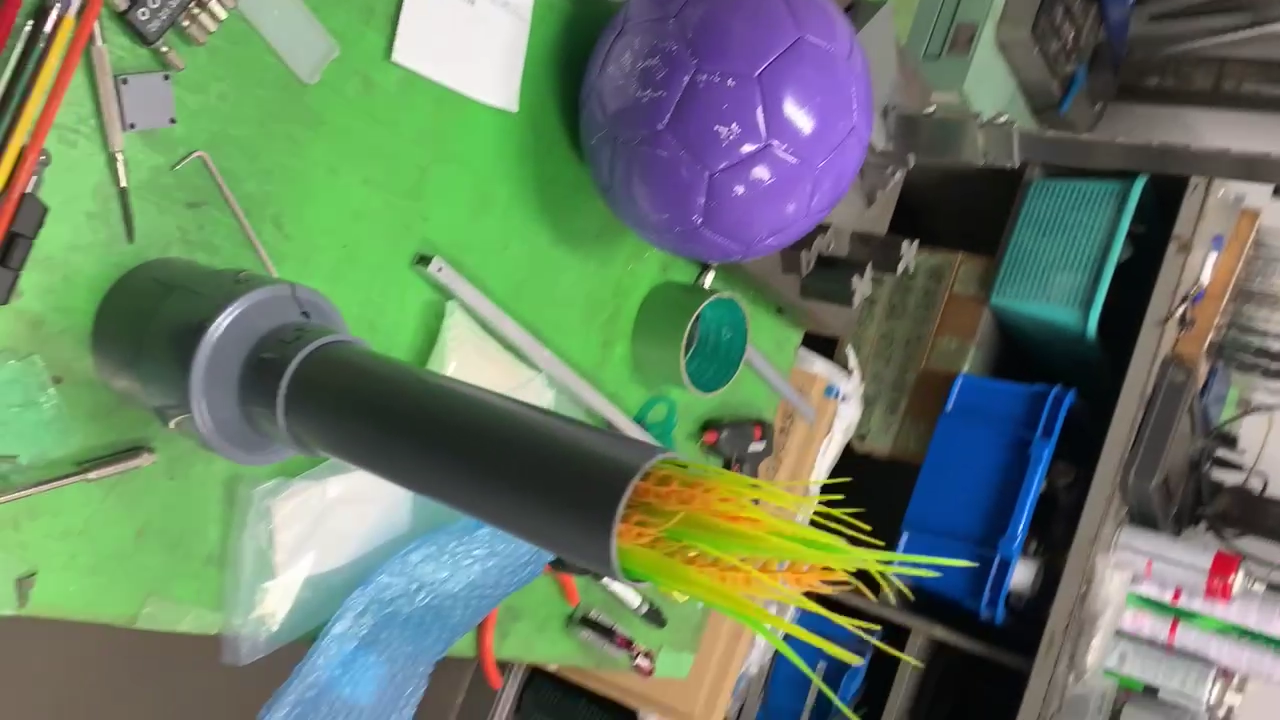purple: (569, 0, 876, 261)
